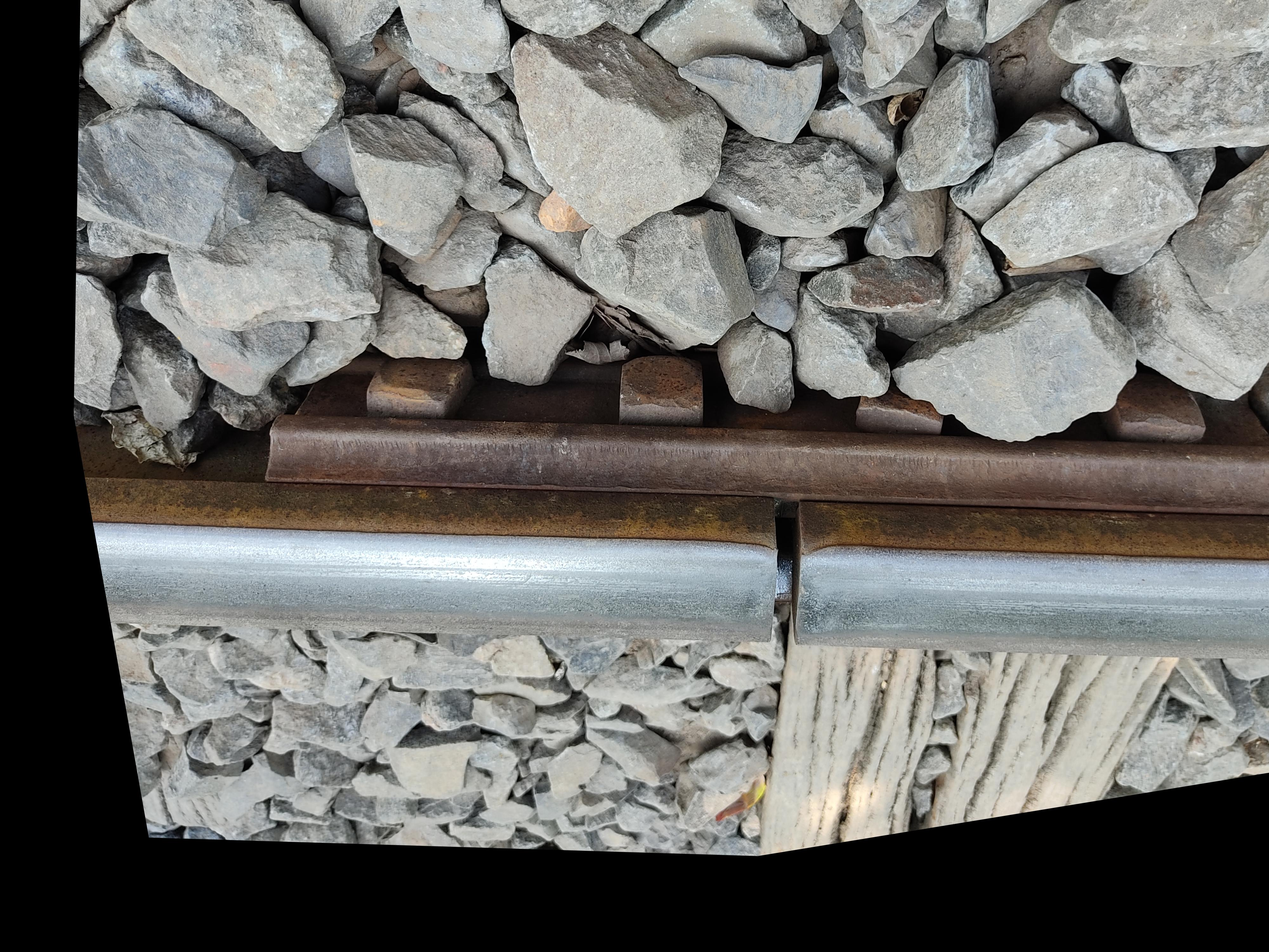person: (339, 643, 475, 779)
